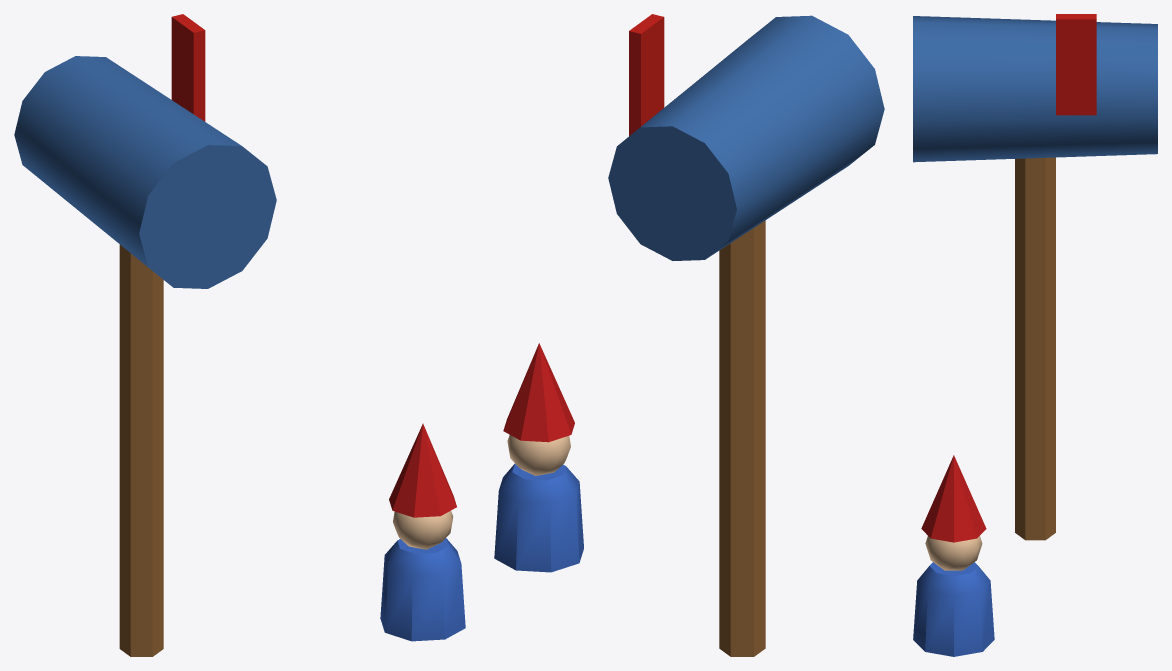
Rendered from mailbox.glb.
The picture shows the model from 3 angles, left to right: view 1: azimuth 30°, elevation 25°; view 2: azimuth 150°, elevation 25°; view 3: azimuth 270°, elevation 25°; orthographic projection. The views are drawn at different scales.
Visible parts, largest first — view 1: mailbox; view 2: mailbox; view 3: mailbox.
Boxes of the visible parts, x1,y1,x2,y2 form: mailbox: (14, 14, 465, 656); mailbox: (494, 14, 884, 656); mailbox: (913, 14, 1157, 656).
Bounding box in the file's own units: 0.9 × 1.48 × 0.6.
